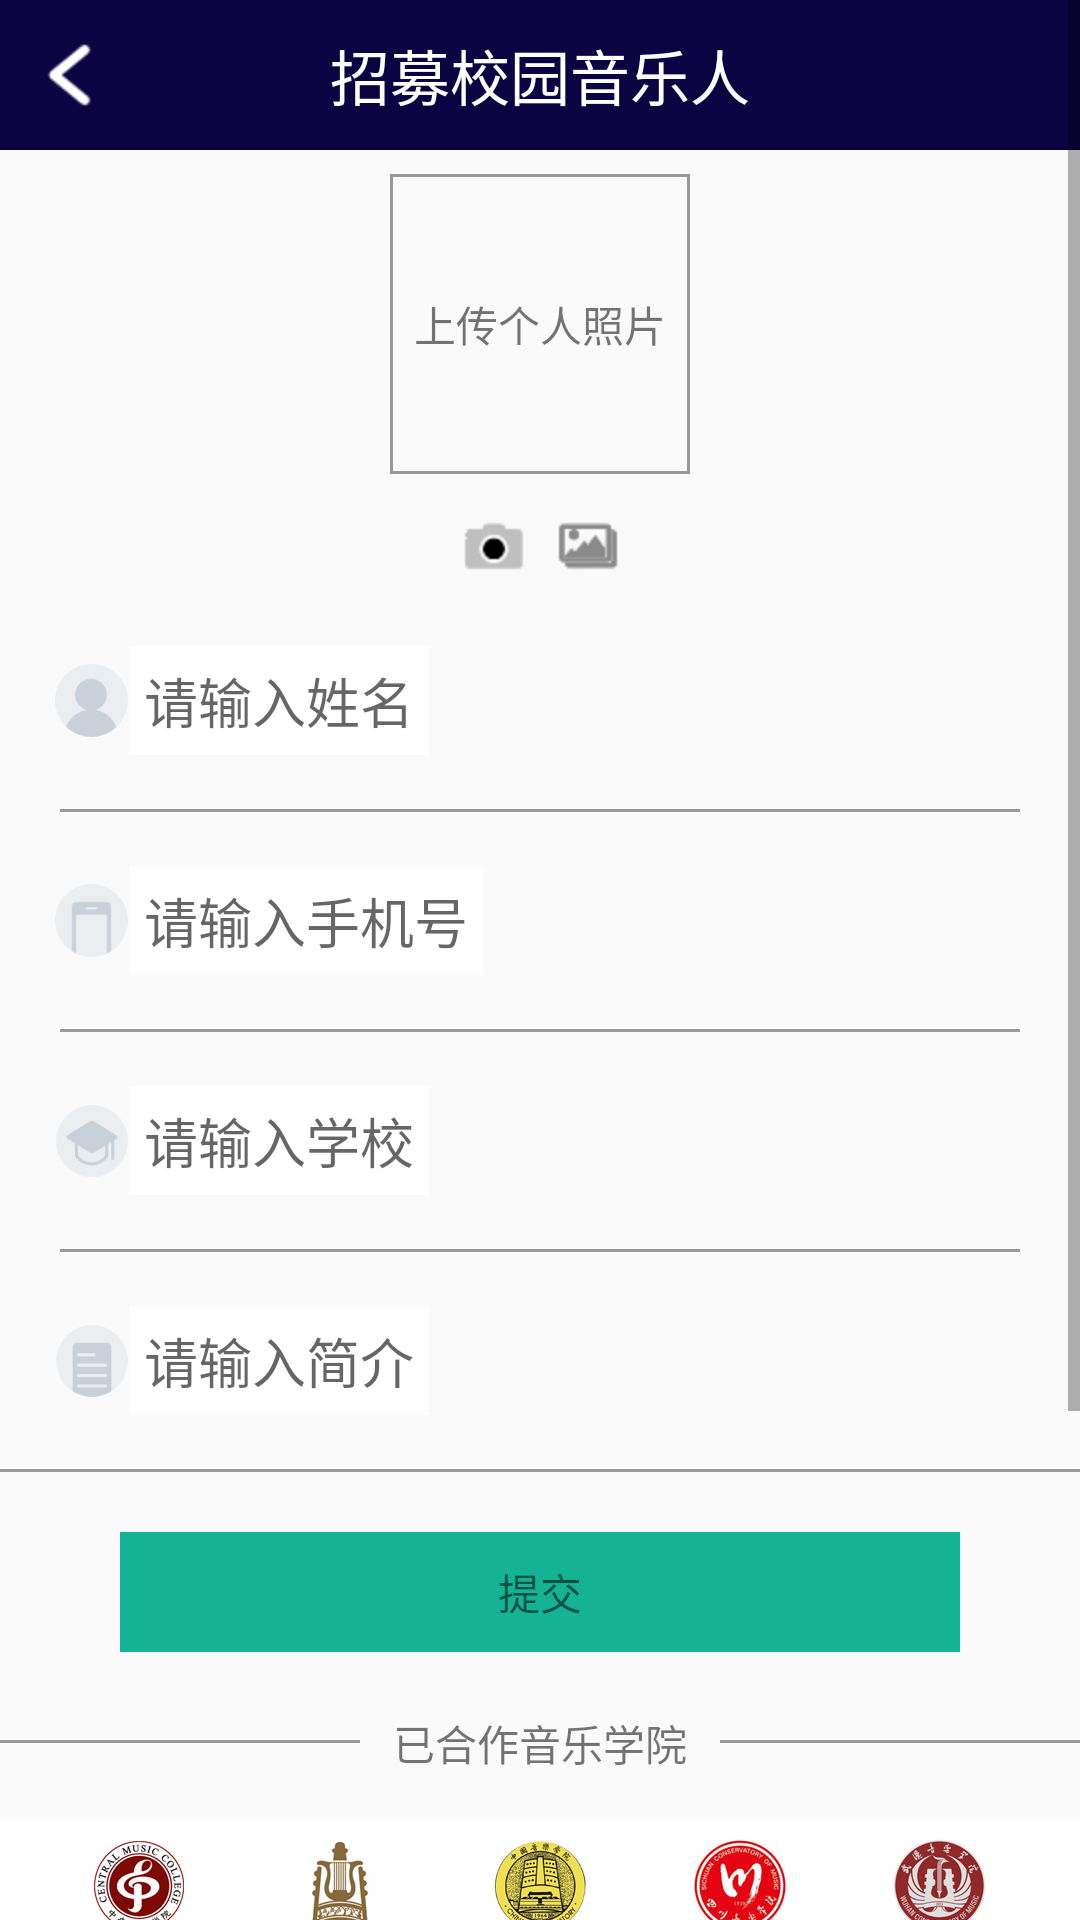

Icon click points for this 1080w x 1920h phone screenshot, format [x,y]:
album: [588,546]
back: [69,75]
camera: [494,546]
introduce: [92,1370]
phone: [91,920]
school: [92,1143]
